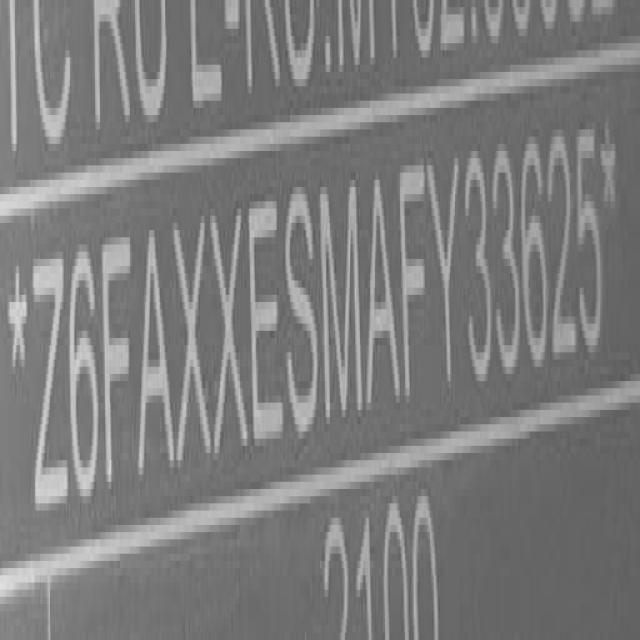2: (552, 125, 576, 374)
3: (491, 140, 520, 388), (464, 145, 488, 397)
5: (579, 126, 604, 368)
6: (69, 239, 99, 514), (522, 133, 547, 377)
A: (139, 218, 175, 494), (368, 159, 401, 421)
E: (252, 188, 284, 465)
F: (101, 218, 136, 506), (397, 155, 428, 410)
M: (320, 170, 364, 445)
S: (287, 179, 319, 446)
X: (212, 196, 248, 475), (175, 205, 209, 482)
Y: (427, 152, 462, 410)
Z: (34, 250, 67, 524)
